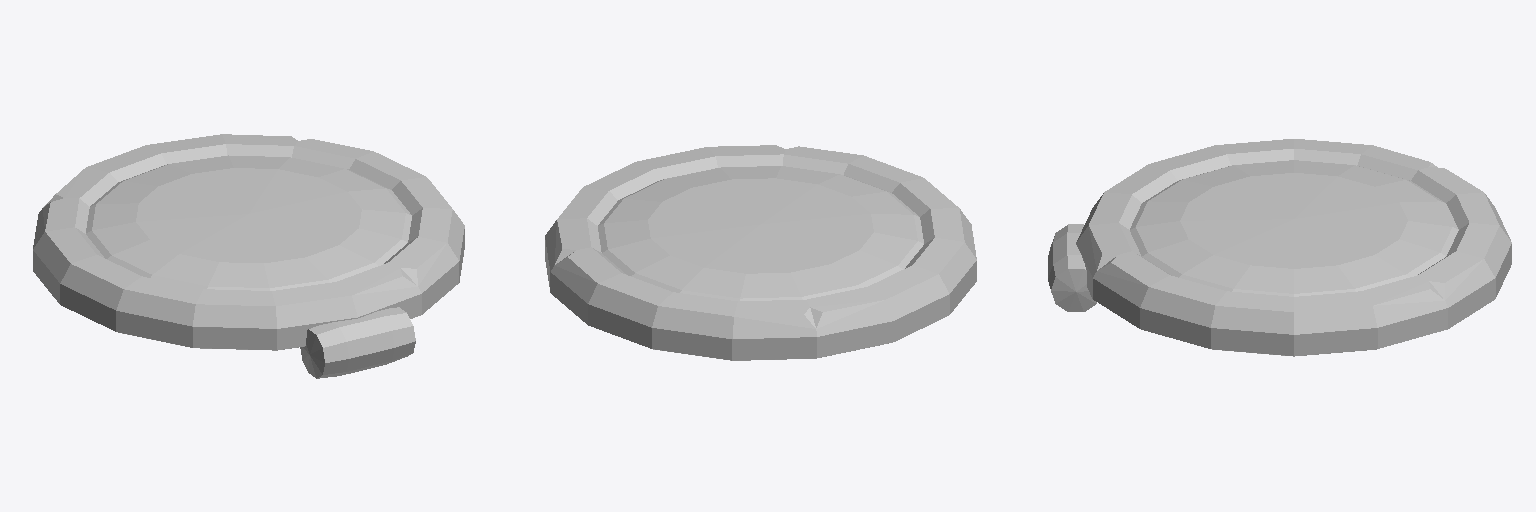
The model's file is compass_base_compass_lid.obj.
The picture shows the model from 3 angles: view 1: azimuth 30°, elevation 25°; view 2: azimuth 150°, elevation 25°; view 3: azimuth 270°, elevation 25°; orthographic projection.
Parts seen in each view (by area): view 1: compass_lid; view 2: compass_lid; view 3: compass_lid.
Boxes of the visible parts, x1,y1,x2,y2 form: compass_lid: [33, 134, 464, 378]; compass_lid: [545, 145, 976, 360]; compass_lid: [1048, 139, 1511, 356].
Bounding box in the file's own units: 0.574 × 0.107 × 0.6113.